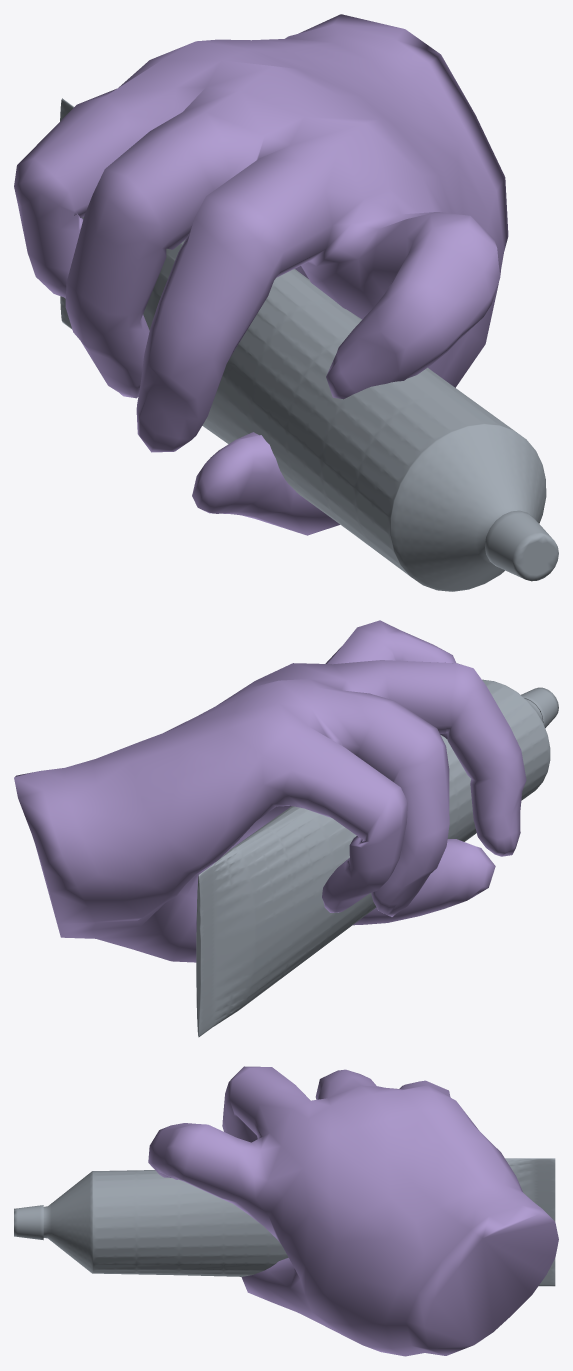
The model's file is grasp_0.glb.
The picture shows the model from 3 angles, top to bottom: view 1: azimuth 30°, elevation 25°; view 2: azimuth 150°, elevation 25°; view 3: azimuth 270°, elevation 25°; orthographic projection. The views are drawn at different scales.
Size of the model in its own units: 0.1268 by 0.093 by 0.2034.
